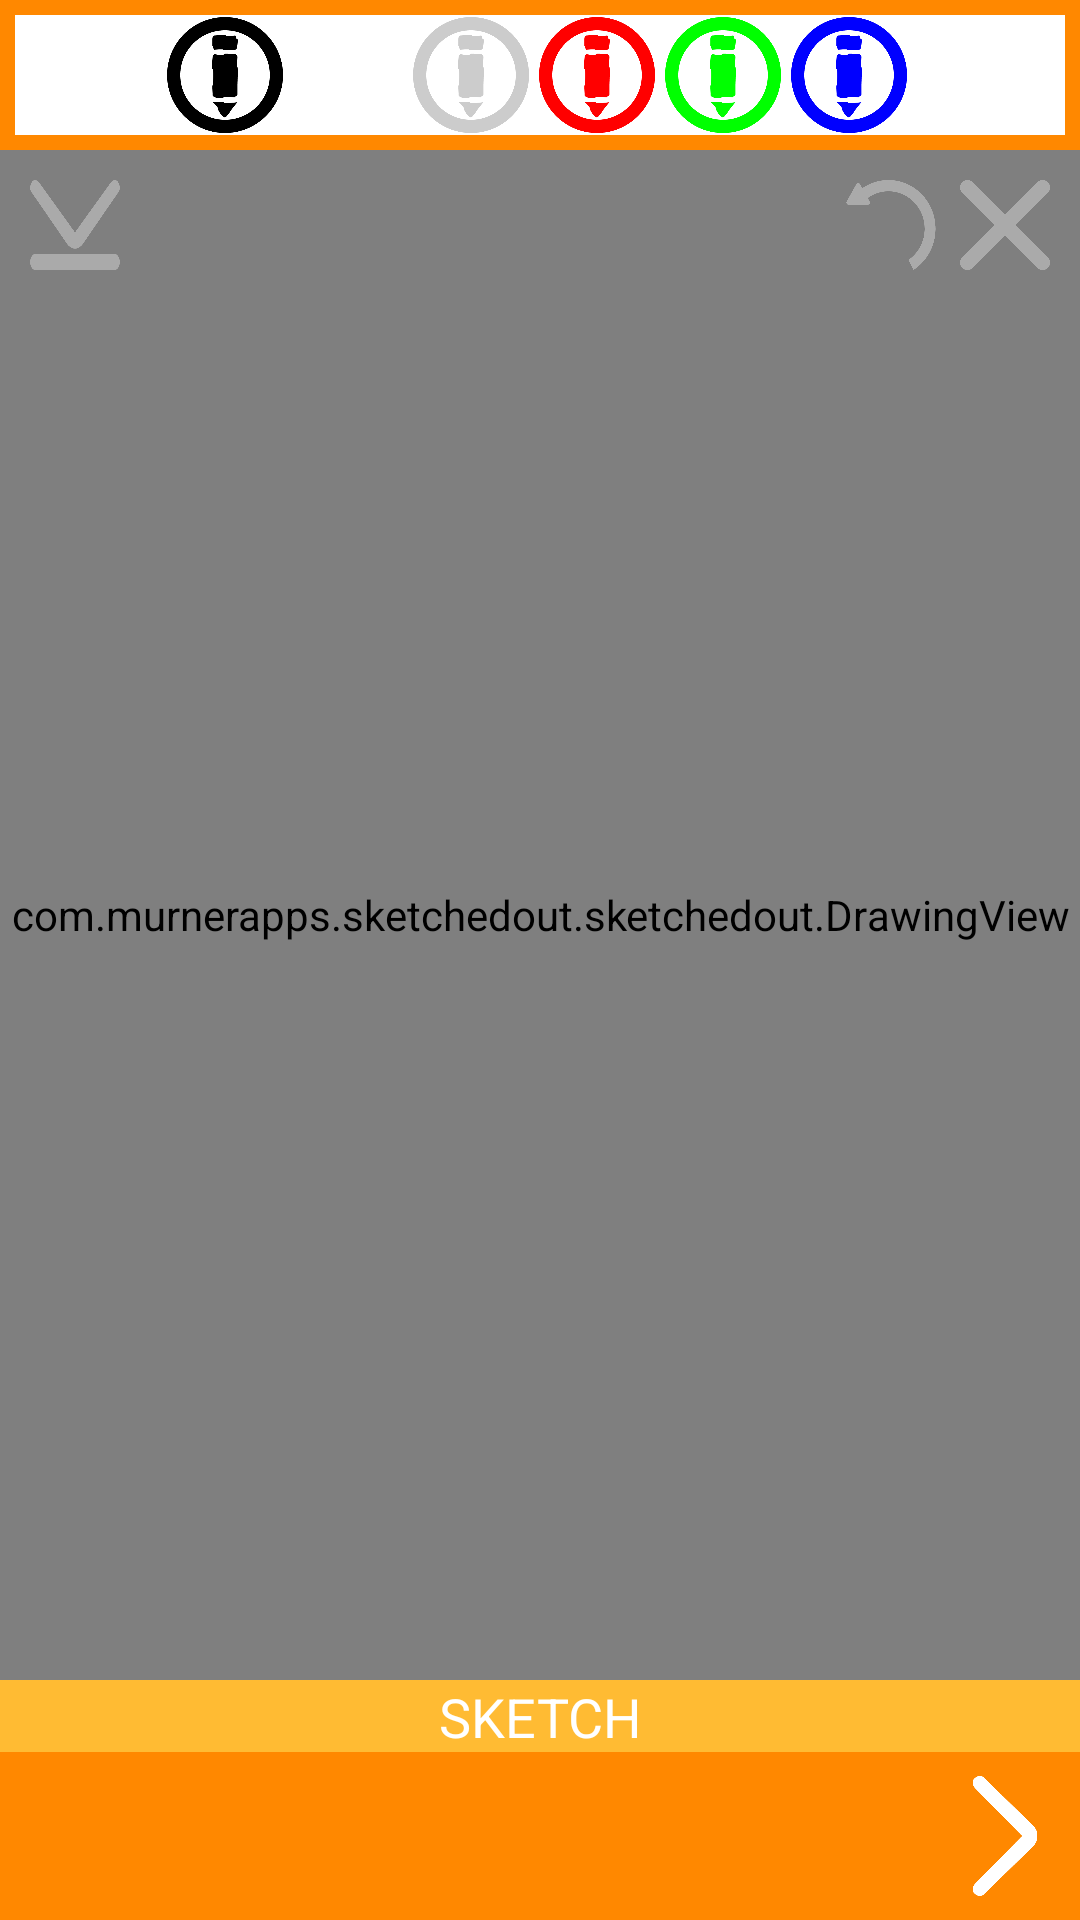

Point at icon controls on the screen. Image size 1080x1920, points as (x=x, y=y).
next: (x=1005, y=1836)
paint: (x=225, y=75), (x=471, y=75), (x=597, y=75), (x=723, y=75), (x=849, y=75)
savebutton: (x=75, y=225)
undobutton: (x=891, y=225)
xbutton: (x=1005, y=225)
